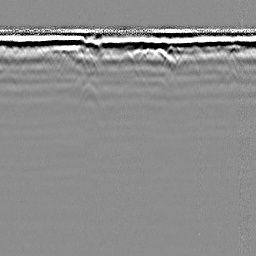cavity: (116, 49, 135, 67)
